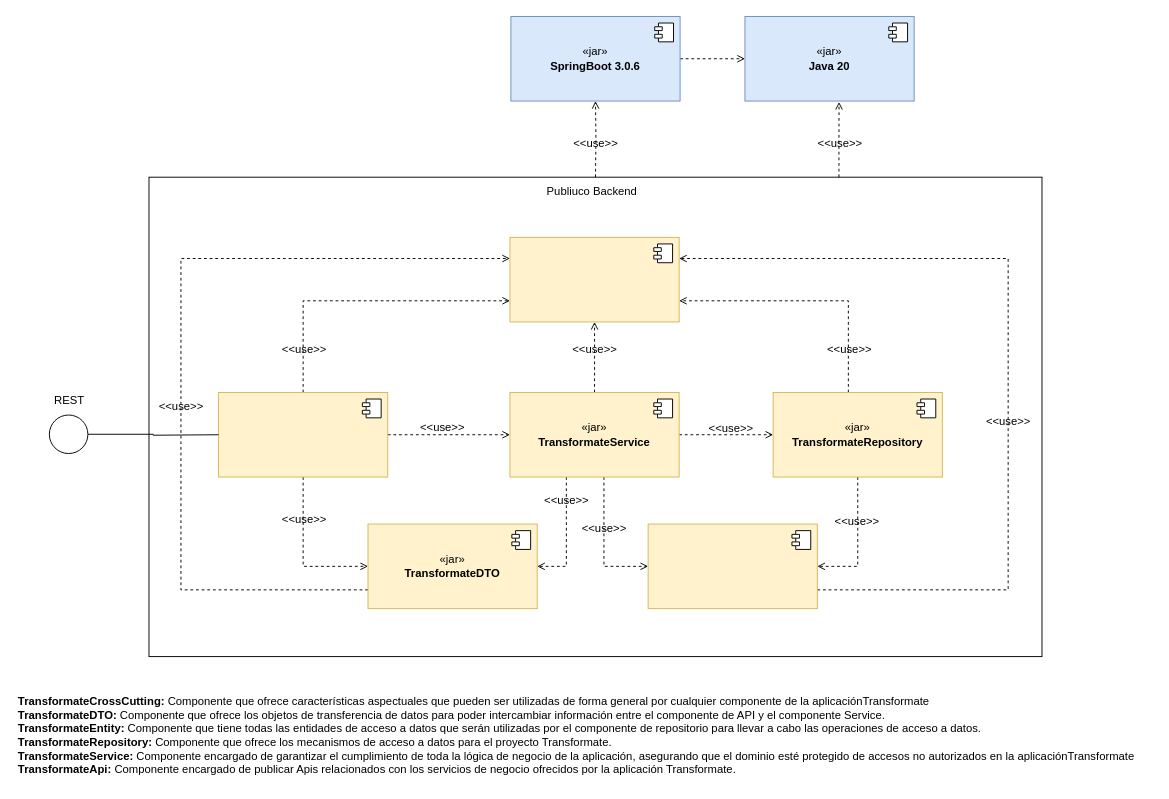
Some shapes in this 1169 by 799 pixel diagram are drawn without their labels. The centre of each missing label's shape, as x and y in pixels:
"«jar» TransformateApi" goes at (303,434).
"«jar» TransformateCrossCutting" goes at (594,279).
"«jar» TransformateEntity" goes at (732,566).
